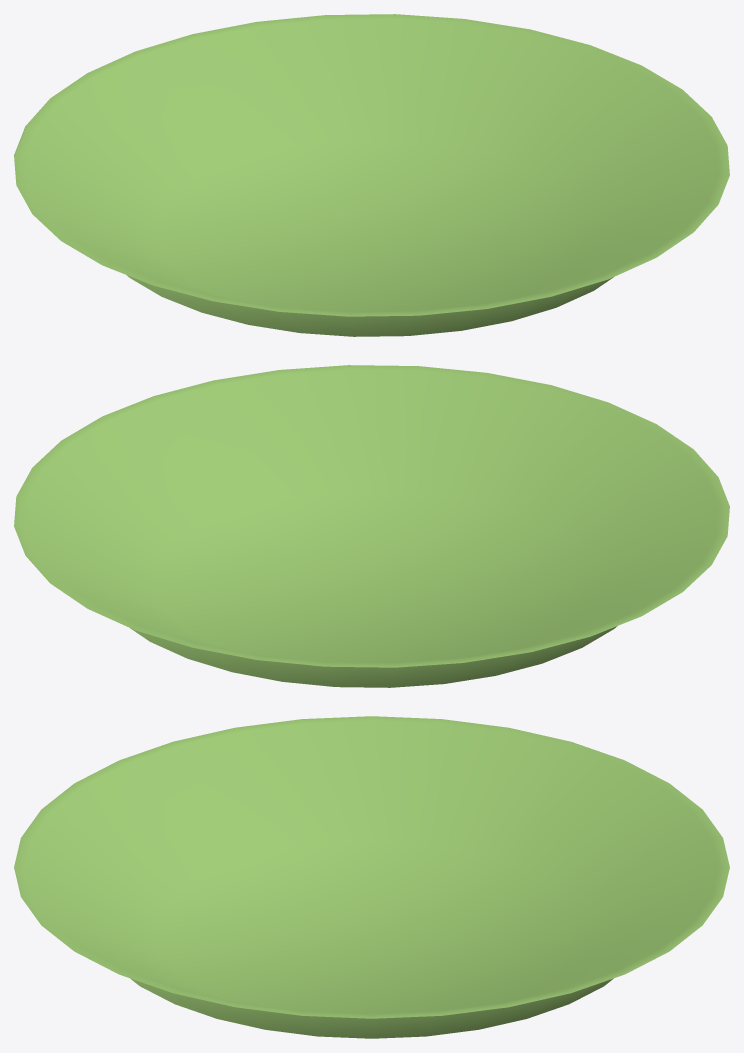
File: KitchenPlate.007.fbx
3 views of the same model, one above another, from view 1: azimuth 30°, elevation 25°; view 2: azimuth 150°, elevation 25°; view 3: azimuth 270°, elevation 25° (orthographic).
Parts seen in each view (by area): view 1: KitchenPlate.007_Baked; view 2: KitchenPlate.007_Baked; view 3: KitchenPlate.007_Baked.
Part boxes in pixels (left/top/right/bottom): KitchenPlate.007_Baked: left=14, top=14, right=729, bottom=336; KitchenPlate.007_Baked: left=14, top=365, right=729, bottom=687; KitchenPlate.007_Baked: left=14, top=716, right=729, bottom=1038.
Bounding box in the file's own units: 23.89 × 2.49 × 23.89.
1 material, 1 textured.
